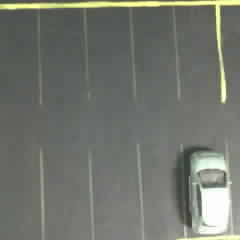Car: (179, 138, 236, 240)
